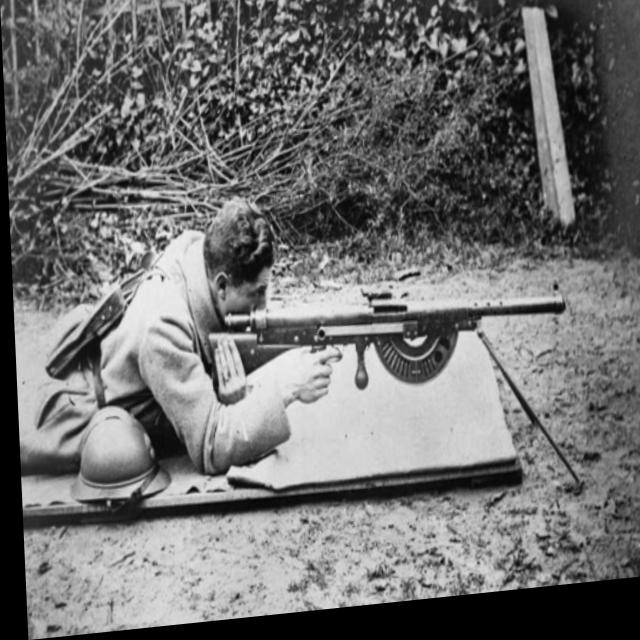other: (8, 200, 335, 482)
